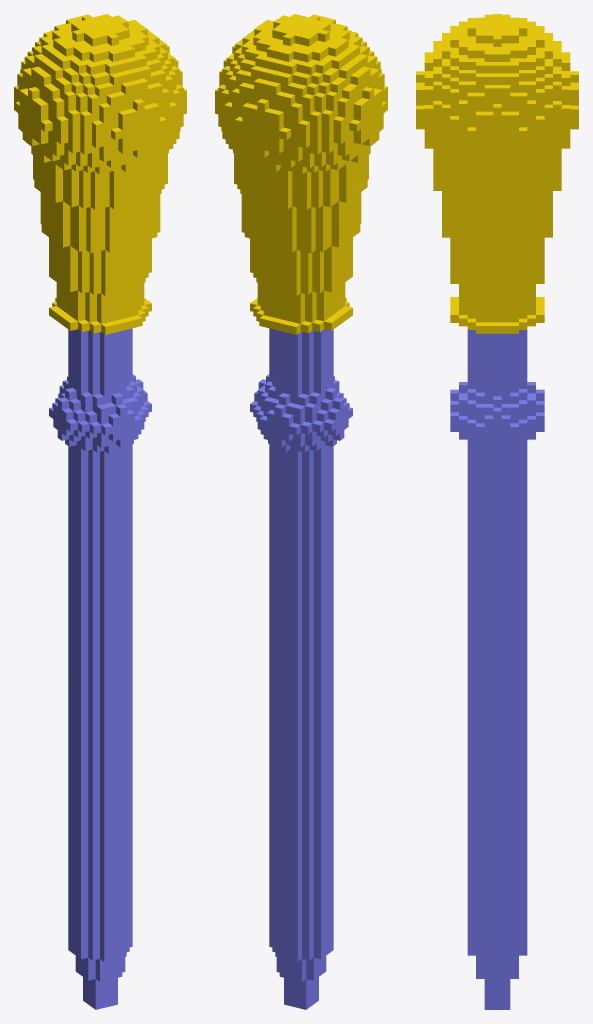
Rendered from Spoide1-1.fbx.
3 views of the same model, side by side, from view 1: azimuth 30°, elevation 25°; view 2: azimuth 150°, elevation 25°; view 3: azimuth 270°, elevation 25° (orthographic).
Visible parts, largest first — view 1: Spoide1-1, Spoide1-1.001; view 2: Spoide1-1, Spoide1-1.001; view 3: Spoide1-1, Spoide1-1.001.
Boxes of the visible parts, x1,y1,x2,y2 form: Spoide1-1: (49, 328, 151, 1009); Spoide1-1.001: (14, 14, 186, 334); Spoide1-1: (250, 328, 352, 1009); Spoide1-1.001: (215, 14, 387, 334); Spoide1-1: (450, 330, 544, 1009); Spoide1-1.001: (416, 14, 578, 333).
Bounding box in the file's own units: 1.9 × 12.6 × 1.9.
